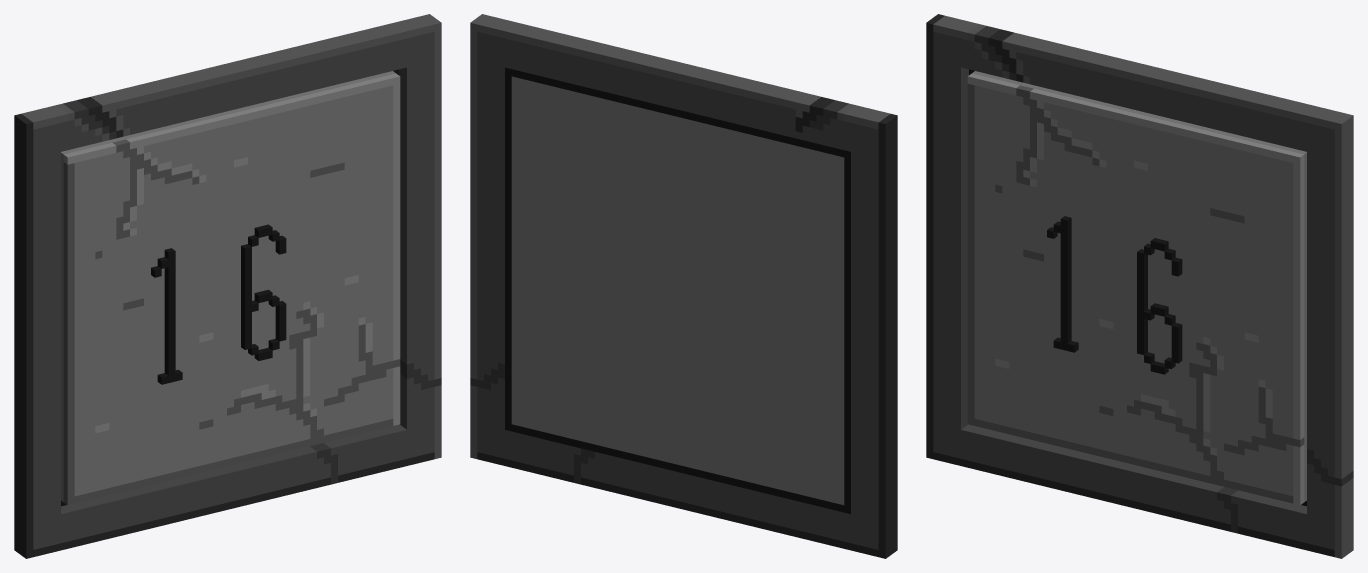
Rendered from balpan_16.obj.
The picture shows the model from 3 angles, left to right: view 1: azimuth 30°, elevation 25°; view 2: azimuth 150°, elevation 25°; view 3: azimuth 330°, elevation 25°; orthographic projection.
Parts seen in each view (by area): view 1: balpan_16; view 2: balpan_16; view 3: balpan_16.
Part boxes in pixels (box(x1,y1,x2,y2)): balpan_16: box(14, 14, 441, 558); balpan_16: box(470, 14, 897, 558); balpan_16: box(926, 14, 1353, 558).
Bounding box in the file's own units: 60 × 60 × 4.
1 material, 1 textured.
